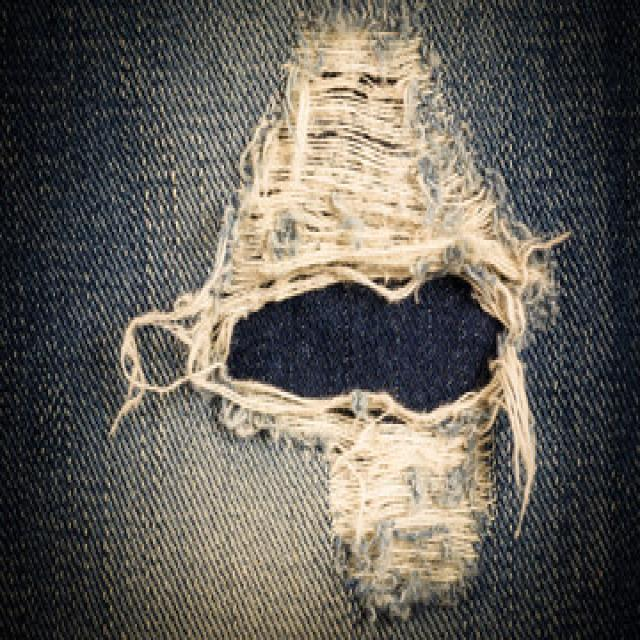Hole: (207, 29, 550, 618)
